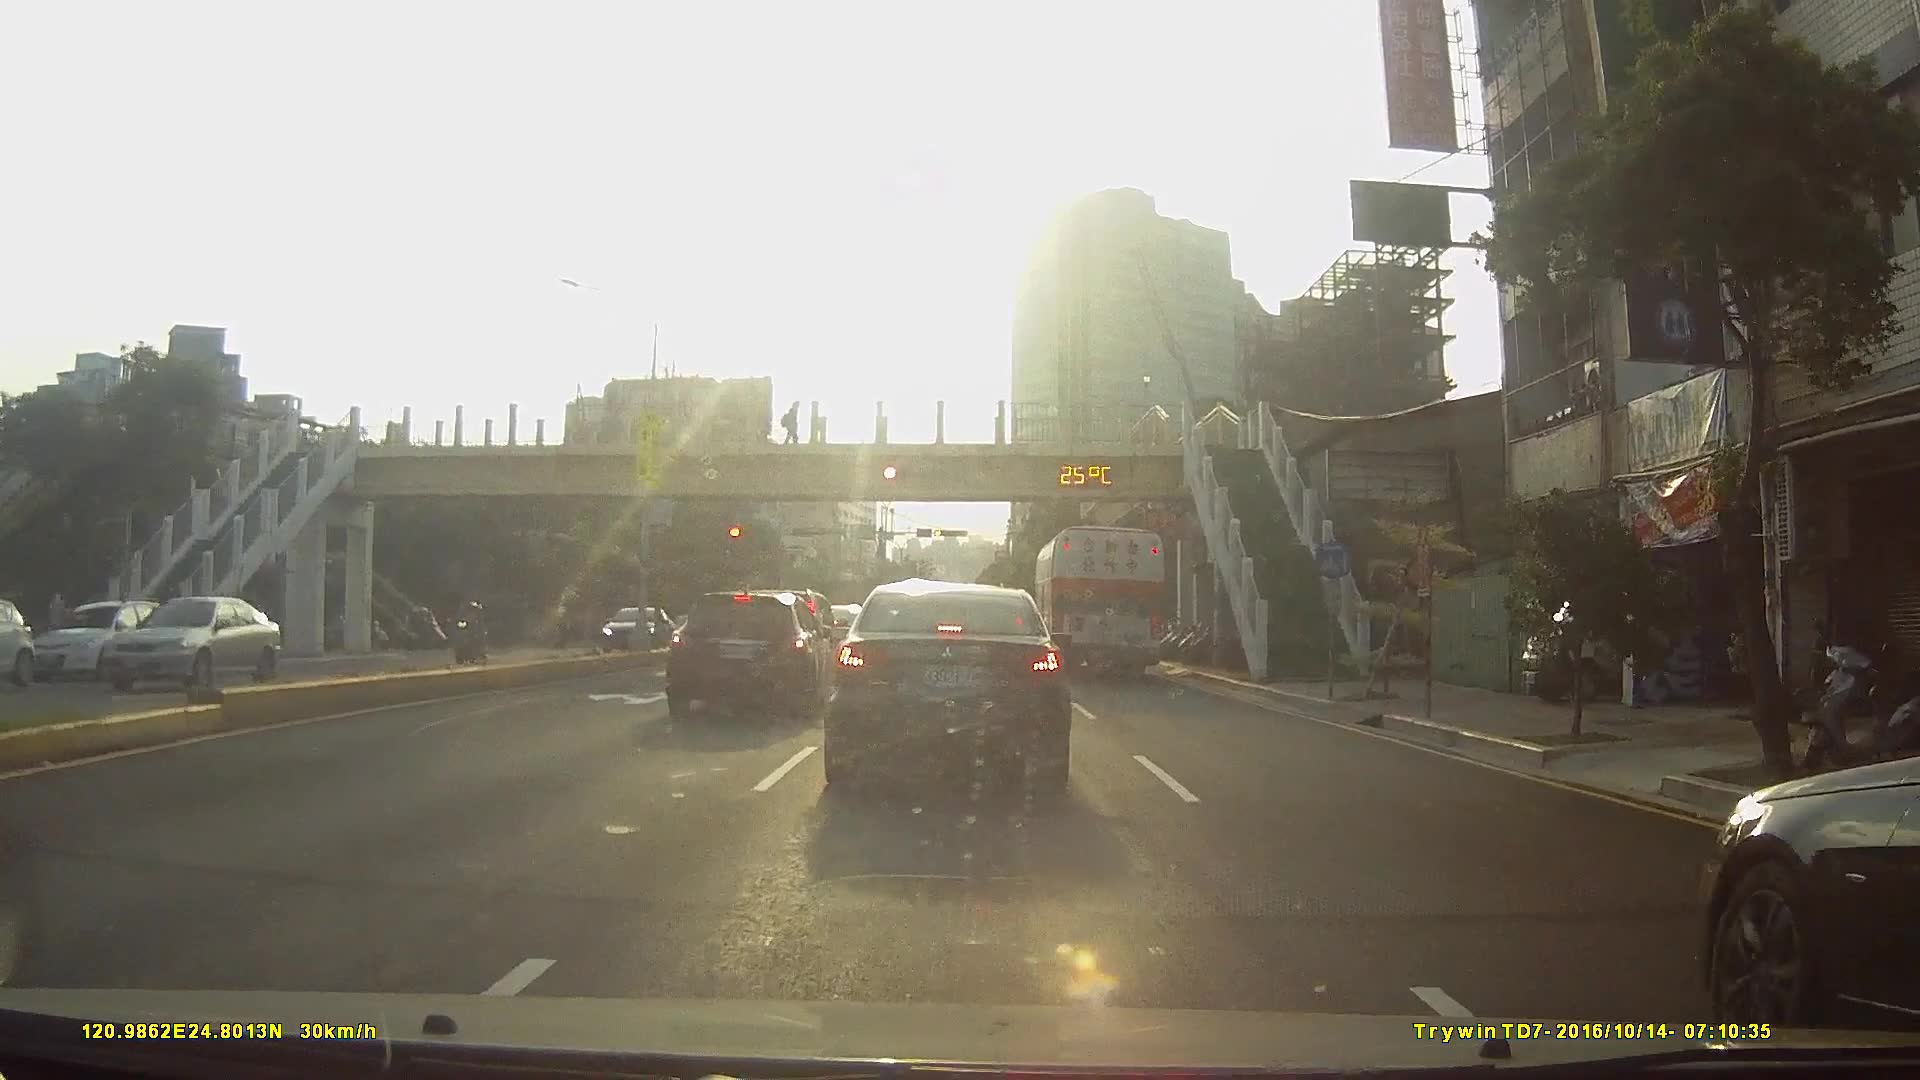pedestrian: (781, 401, 801, 448)
rider: (451, 597, 489, 666)
vehicle: (1679, 724, 1920, 1049), (819, 580, 1073, 794), (658, 585, 838, 721), (1034, 522, 1167, 679), (77, 594, 267, 694), (26, 599, 168, 684), (164, 600, 269, 672), (592, 604, 670, 654), (0, 597, 33, 689)
